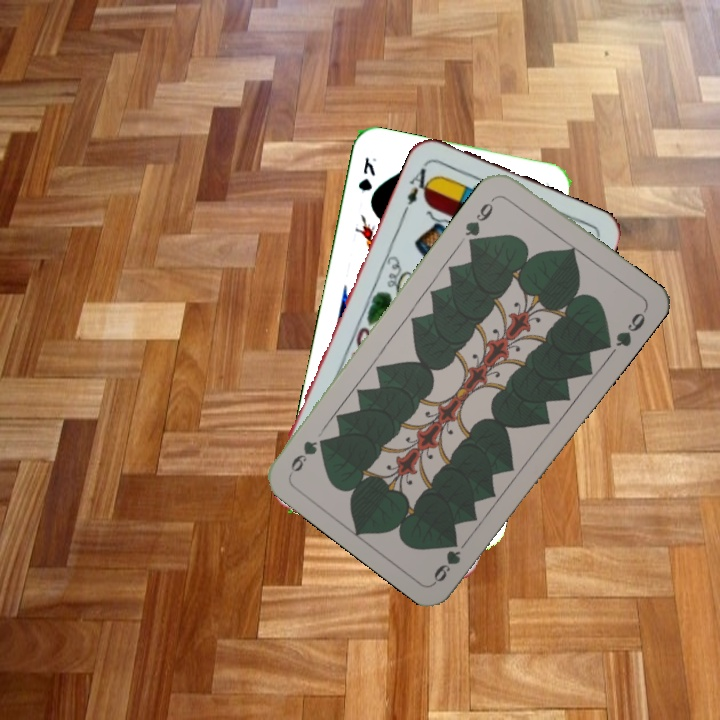EA: (403, 159, 436, 208)
G9: (460, 192, 500, 245), (429, 534, 464, 585)
GK: (354, 153, 379, 196)
